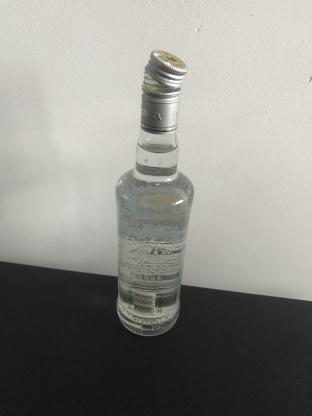nakretka: (139, 47, 189, 135)
